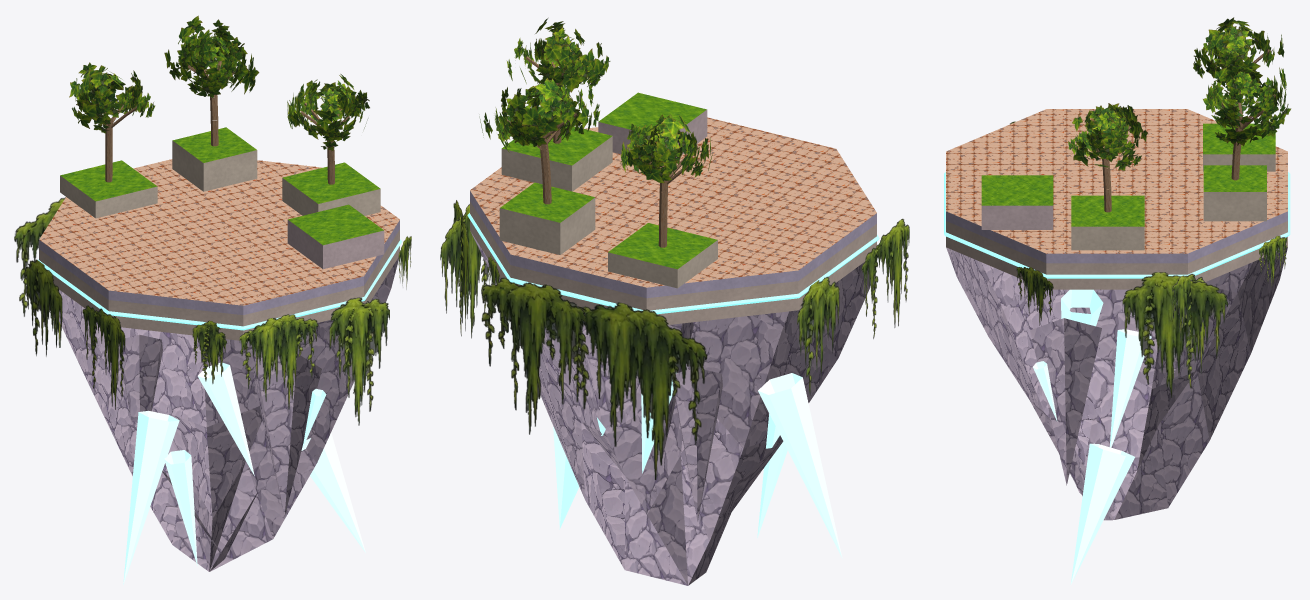
File: SKY_ISLAND_01.glb
3 renders of one model, left to right at view 1: azimuth 30°, elevation 25°; view 2: azimuth 150°, elevation 25°; view 3: azimuth 270°, elevation 25°, orthographic. The views are drawn at different scales.
Visible parts, largest first — view 1: S_Small00_Skin.001, S_Small00_Moss.001, S_Small00_Trees.001, S_Small00_Crystals.001; view 2: S_Small00_Skin.001, S_Small00_Moss.001, S_Small00_Trees.001, S_Small00_Crystals.001; view 3: S_Small00_Skin.001, S_Small00_Trees.001, S_Small00_Moss.001, S_Small00_Crystals.001.
Boxes of the visible parts, <box> form: S_Small00_Skin.001: <box>38,127,402,571</box>; S_Small00_Moss.001: <box>14,197,411,425</box>; S_Small00_Trees.001: <box>69,15,369,184</box>; S_Small00_Crystals.001: <box>123,362,365,584</box>; S_Small00_Skin.001: <box>467,92,879,585</box>; S_Small00_Moss.001: <box>440,200,909,479</box>; S_Small00_Trees.001: <box>479,18,712,247</box>; S_Small00_Crystals.001: <box>553,372,842,558</box>; S_Small00_Skin.001: <box>944,109,1290,520</box>; S_Small00_Trees.001: <box>1068,17,1291,212</box>; S_Small00_Moss.001: <box>1010,121,1286,397</box>; S_Small00_Crystals.001: <box>1033,289,1151,584</box>.
Bounding box in the file's own units: 14.21 × 20.46 × 13.52.
9 materials, 7 textured.
